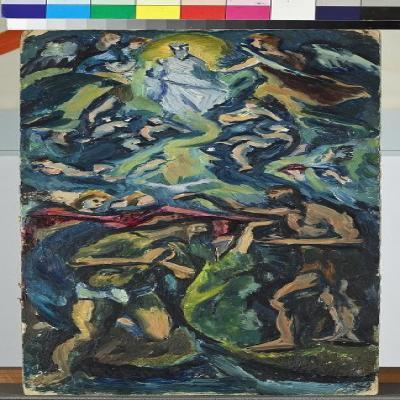painting: (22, 27, 384, 398)
